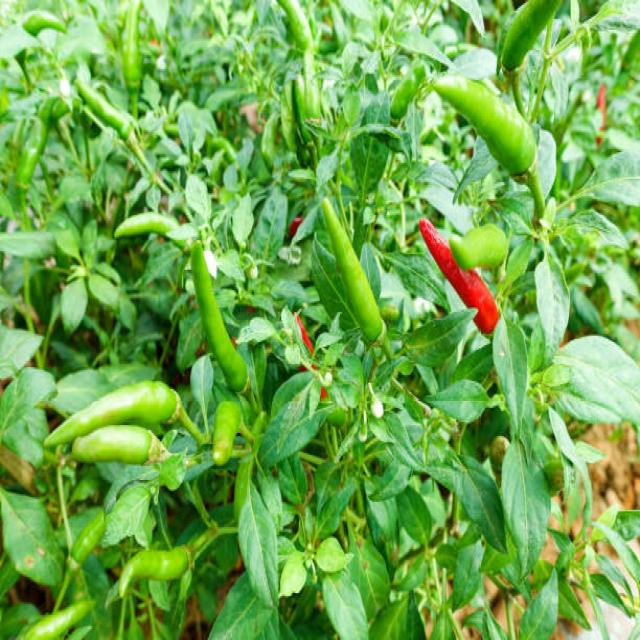Ripe: (416, 220, 500, 337)
Unripe: (429, 77, 535, 173), (187, 235, 248, 392), (323, 199, 383, 339), (43, 383, 175, 445), (502, 0, 559, 66), (118, 546, 190, 596), (67, 427, 152, 466), (450, 223, 509, 268), (70, 508, 109, 569), (212, 400, 241, 464)
